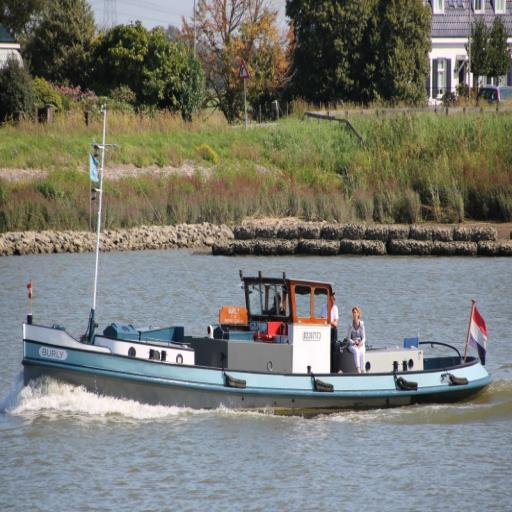tugboat: (19, 263, 495, 429)
